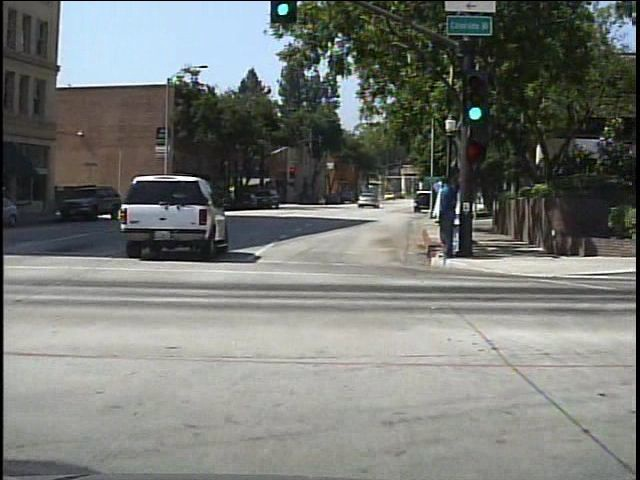person: (433, 172, 460, 261), (426, 178, 450, 262), (316, 193, 327, 207)
